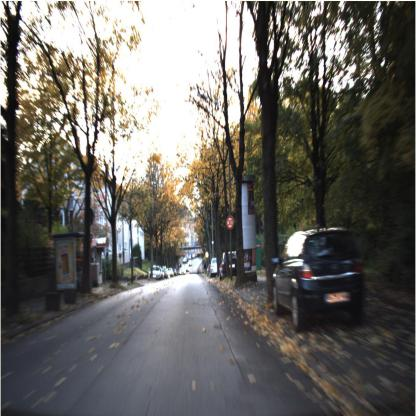prohibitory: (224, 213, 236, 234)
